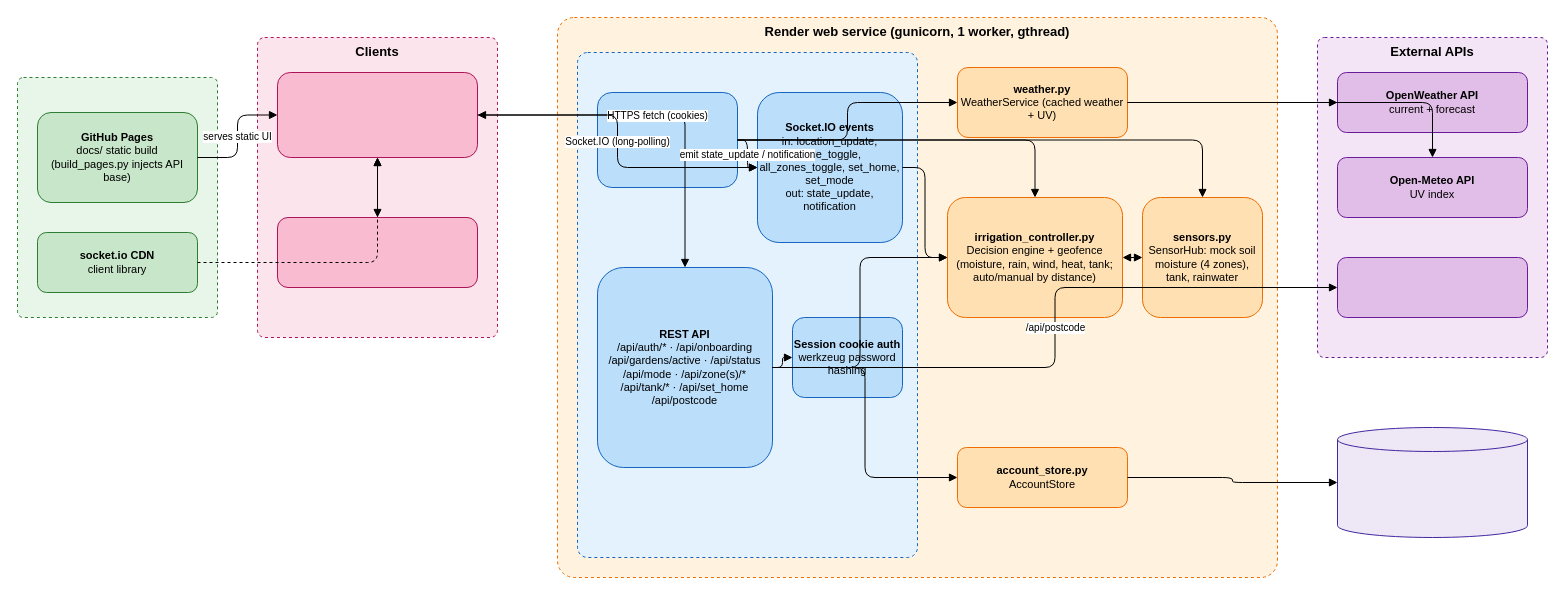
The diagram is 1565 pixels wide and 595 high, and some of its shapes have lost their labels. Here are the shapes that lost their labels. From the top down, the box of each, then its label:
(276, 72, 478, 158): Web browser index.html + app.js (dashboard, settings, auth)
(596, 92, 738, 188): Background tick sensors → weather → decisions → broadcast
(16, 76, 218, 318): Hosting
(276, 216, 478, 288): Browser / device APIs Geolocation · Notifications · localStorage
(576, 52, 918, 558): app.py — Flask + Flask-SocketIO + CORS
(1336, 256, 1528, 318): postcodes.io postcode → lat/lon
(1336, 426, 1528, 538): SQLite irrigate.sqlite3 users · gardens · zone_labels · tank_settings
